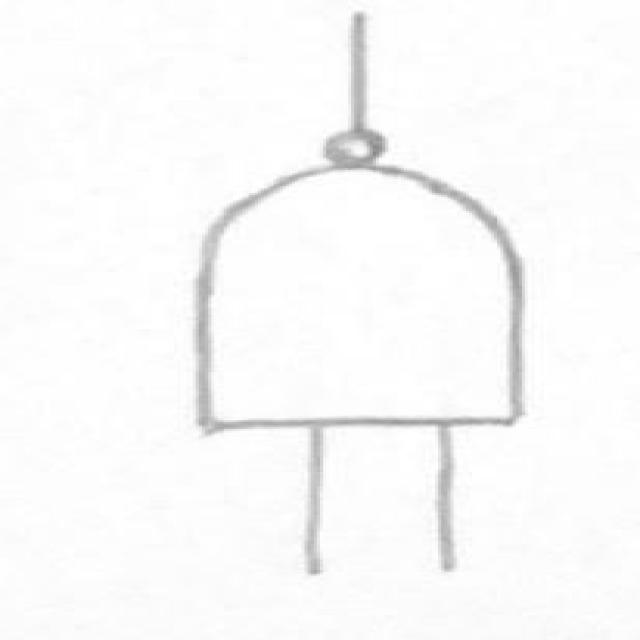NAND: (138, 127, 594, 470)
